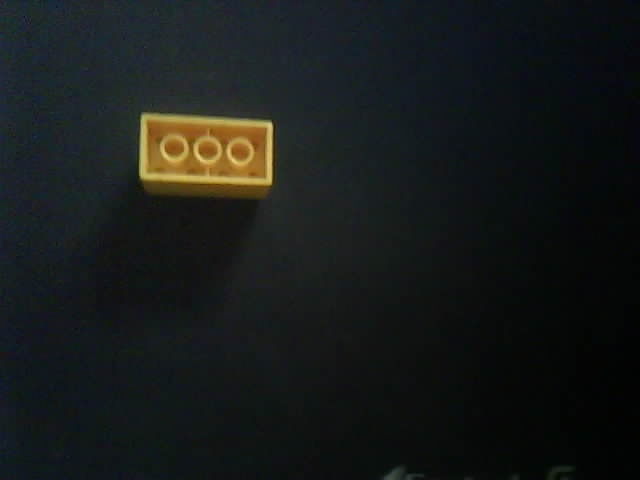lego: (136, 109, 276, 197)
